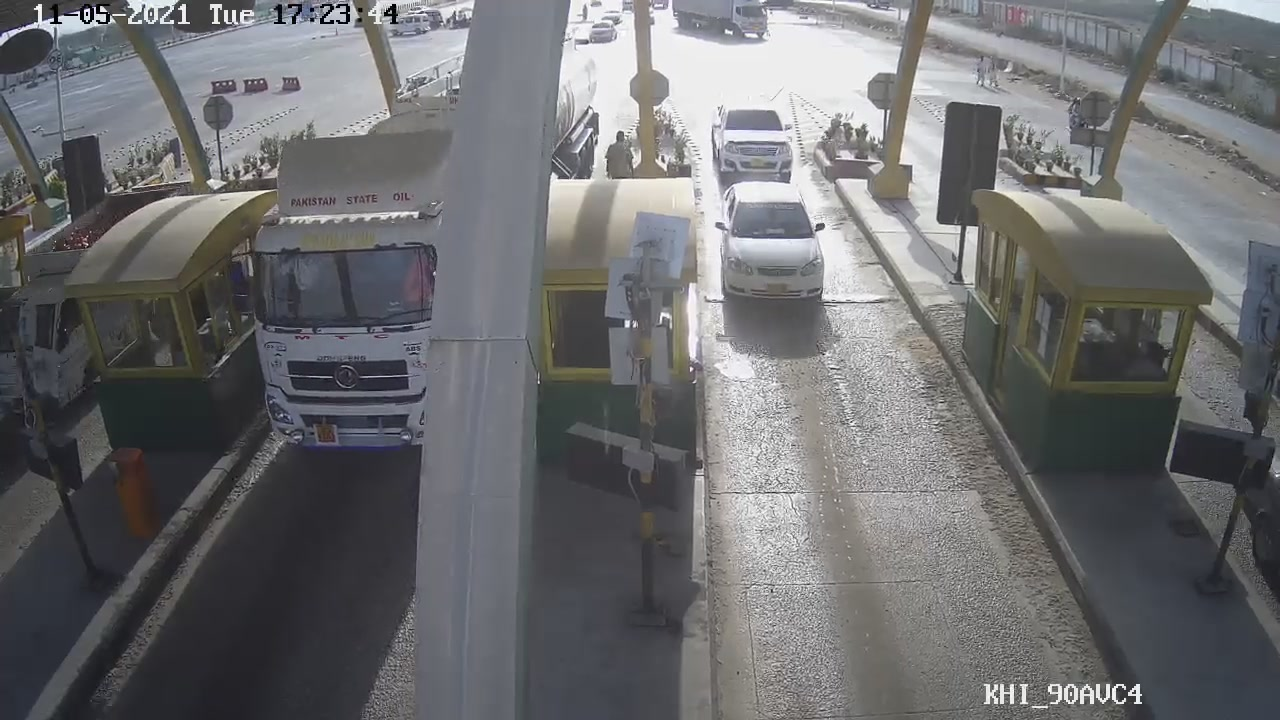F1: (705, 181, 840, 306)
